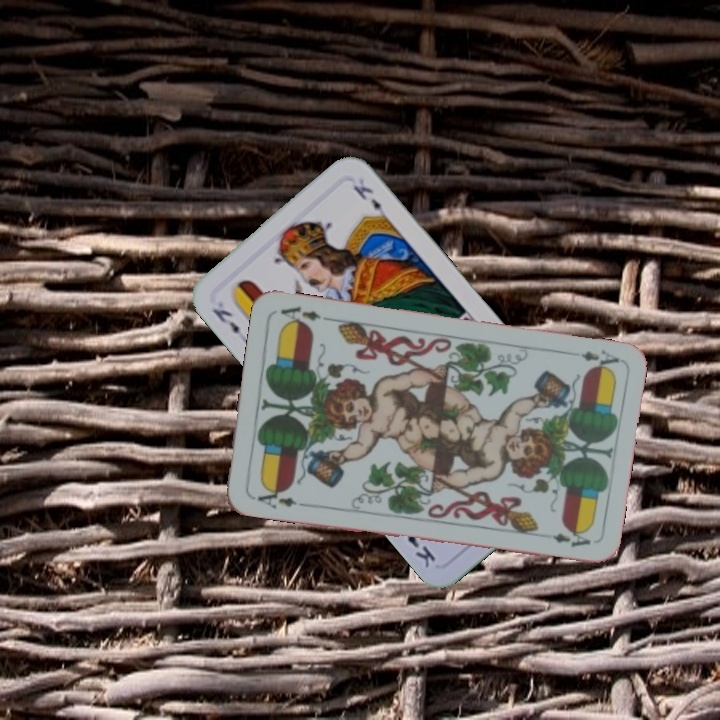EA: (248, 482, 307, 512), (577, 345, 622, 374)
EK: (208, 304, 243, 337)
